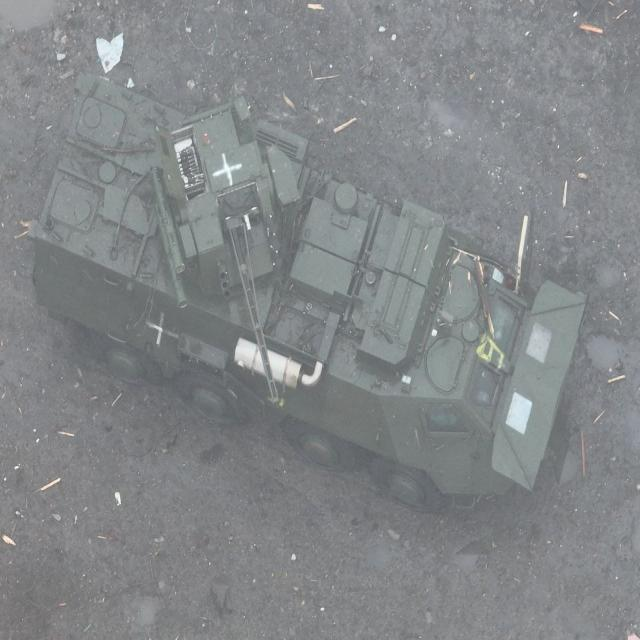APC: (31, 56, 593, 550)
